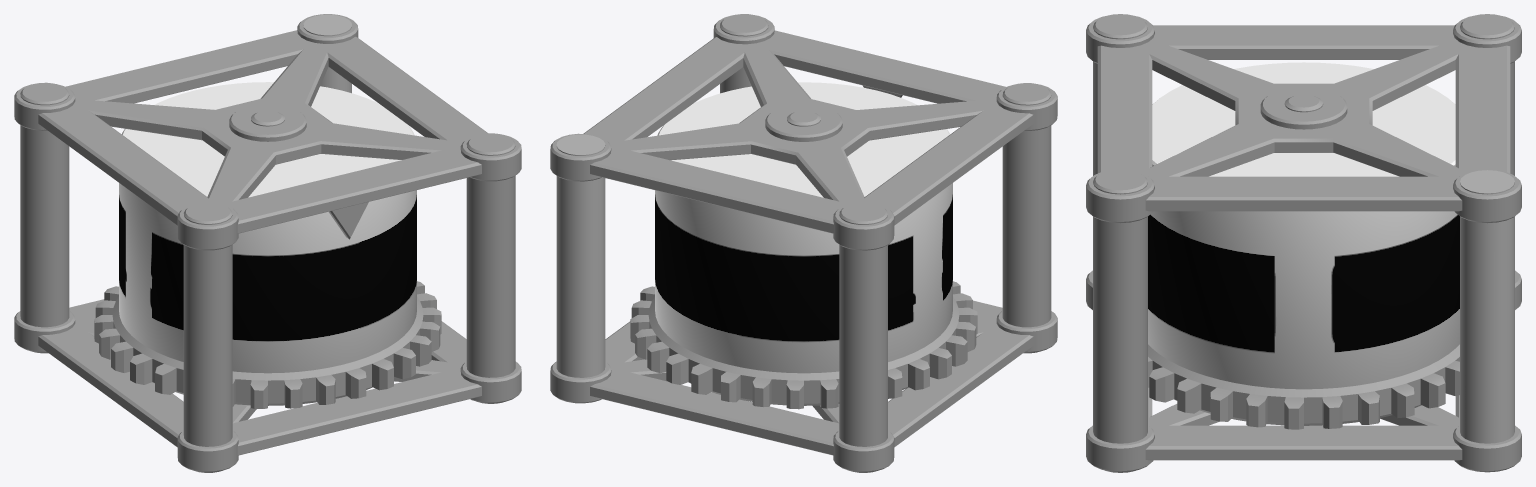
File: Creep.fbx
3 views of the same model, side by side, from view 1: azimuth 30°, elevation 25°; view 2: azimuth 150°, elevation 25°; view 3: azimuth 270°, elevation 25° (orthographic). The views are drawn at different scales.
Parts seen in each view (by area): view 1: cylinder_main, plate_top, plate_bottom1, cylinder_front_left, cylinder_front_right, cylinder_back_left, cylinder_middle2, cylinder_back_right; view 2: cylinder_main, plate_top, plate_bottom1, cylinder_back_right, cylinder_back_left, cylinder_front_left, cylinder_middle2, cylinder_front_right; view 3: cylinder_main, plate_top, plate_bottom1, cylinder_front_right, cylinder_back_right, cylinder_middle2, cylinder_front_left, cylinder_back_left, cylinder_axis.
Boxes of the visible parts, x1,y1,x2,y2 form: cylinder_main: [94, 82, 441, 408]; plate_top: [14, 14, 521, 250]; plate_bottom1: [14, 299, 521, 472]; cylinder_front_left: [183, 202, 232, 472]; cylinder_front_right: [466, 133, 515, 403]; cylinder_back_left: [20, 82, 69, 353]; cylinder_middle2: [229, 103, 306, 141]; cylinder_back_right: [303, 14, 351, 93]; cylinder_main: [630, 82, 977, 409]; plate_top: [550, 15, 1057, 250]; plate_bottom1: [550, 300, 1057, 472]; cylinder_back_right: [556, 134, 605, 377]; cylinder_back_left: [839, 202, 887, 472]; cylinder_front_left: [1002, 83, 1051, 353]; cylinder_middle2: [765, 104, 842, 141]; cylinder_front_right: [720, 14, 768, 93]; cylinder_main: [1148, 62, 1459, 429]; plate_top: [1086, 16, 1521, 223]; plate_bottom1: [1086, 270, 1521, 472]; cylinder_front_right: [1093, 169, 1147, 472]; cylinder_back_right: [1460, 170, 1514, 443]; cylinder_middle2: [1260, 87, 1347, 129]; cylinder_front_left: [1093, 14, 1147, 175]; cylinder_back_left: [1460, 14, 1514, 175]; cylinder_axis: [1284, 94, 1323, 112].
Size of the model in its own units: 1.9 by 1.37 by 1.9.
